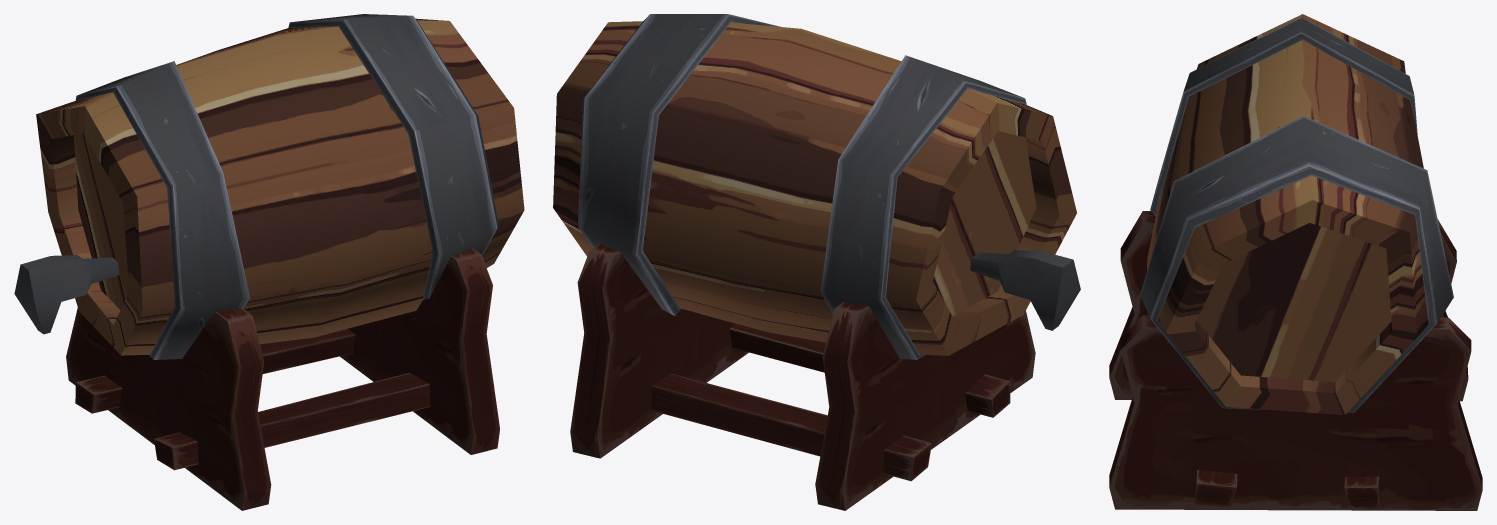
The model's file is FIG0110004.FBX.
3 renders of one model, left to right at view 1: azimuth 30°, elevation 25°; view 2: azimuth 150°, elevation 25°; view 3: azimuth 270°, elevation 25°, orthographic. The views are drawn at different scales.
Parts seen in each view (by area): view 1: smFIG0110004; view 2: smFIG0110004; view 3: smFIG0110004.
Boxes of the visible parts, x1,y1,x2,y2 form: smFIG0110004: (14,14,524,510); smFIG0110004: (553,14,1080,510); smFIG0110004: (1109,14,1482,510).
Bounding box in the file's own units: 1.2 × 0.9645 × 0.8886.
Materials: 3 (3 with a texture image).
